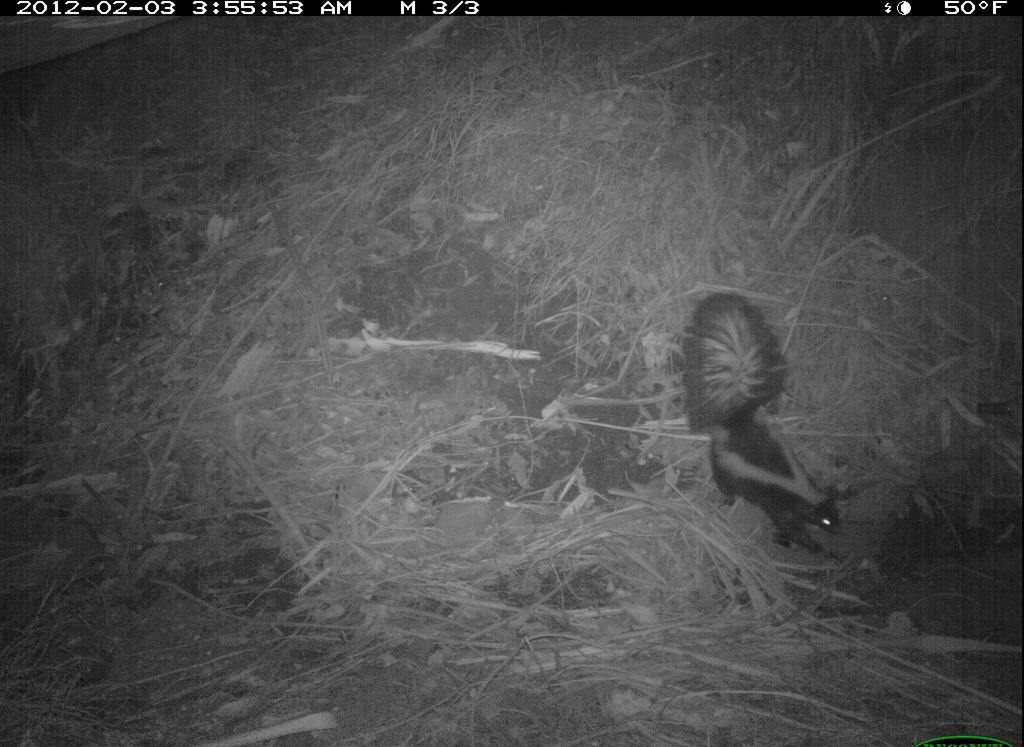skunk: (679, 287, 854, 561)
